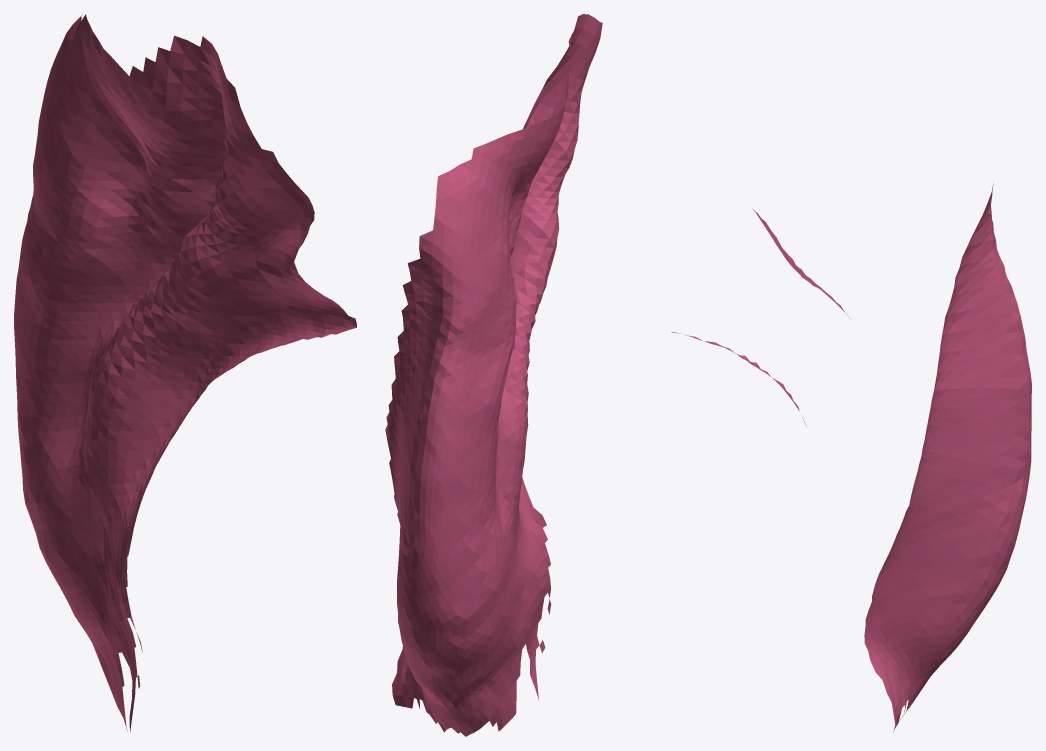
The model's file is rh_medialorbitofrontal.glb.
3 renders of one model, left to right at view 1: azimuth 30°, elevation 25°; view 2: azimuth 150°, elevation 25°; view 3: azimuth 270°, elevation 25°, orthographic. The views are drawn at different scales.
Visible parts, largest first — view 1: world; view 2: world; view 3: world.
Part boxes in pixels (left/top/right/bottom): world: left=14, top=14, right=356, bottom=732; world: left=385, top=14, right=602, bottom=736; world: left=671, top=182, right=1031, bottom=732.
Bounding box in the file's own units: 11.66 × 57.29 × 30.01.
